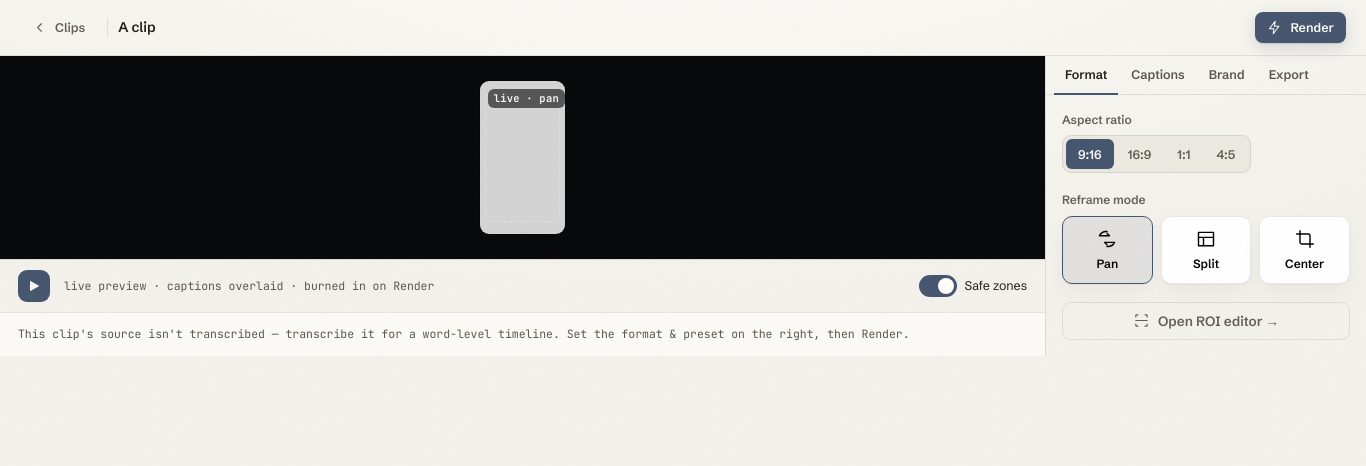
it: editor async lifecycle guards › keeps an accepted preview locally pending while SSE has no matching job
Click the button "Split": (1206, 250) [1161,216,1251,284]
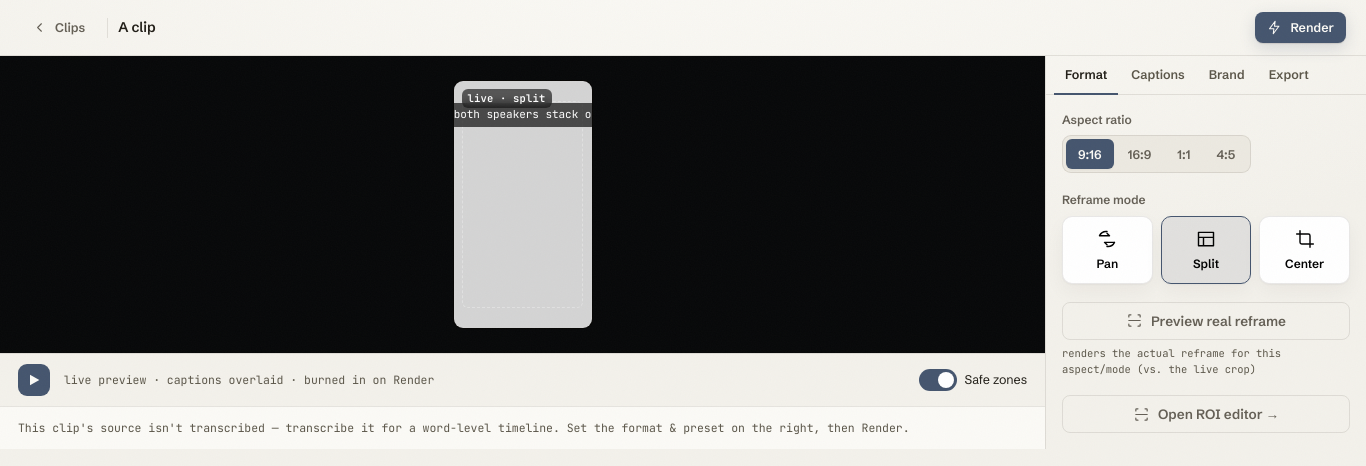
Click the button "Preview real reframe": (1206, 321) [1062,302,1350,340]
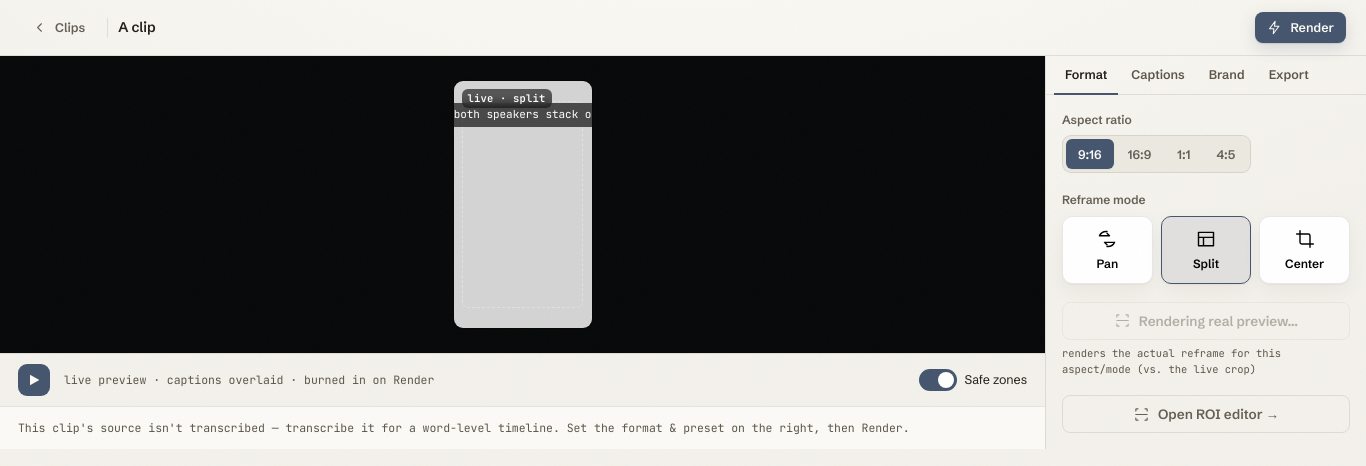
Expected: the button "Rendering real preview…" is disabled
Click the button "Rendering real preview…": (1206, 321) [1062,302,1350,340]
Wait 5000 ms
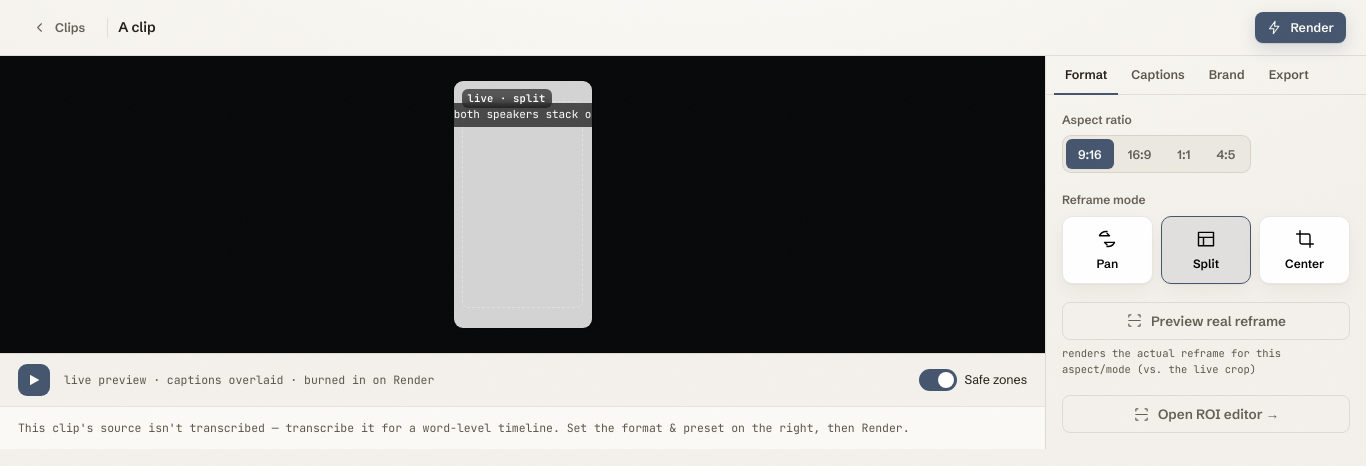
Expected: the button "Preview real reframe" is enabled, [1062,302,1350,340]
